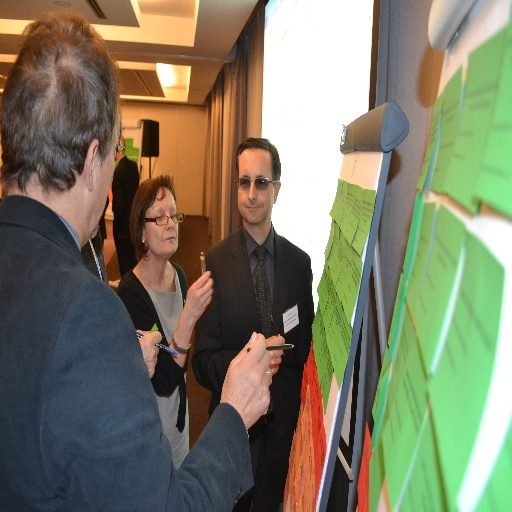hand: (214, 338, 280, 425), (184, 269, 214, 324), (135, 326, 163, 379), (258, 333, 286, 374)
